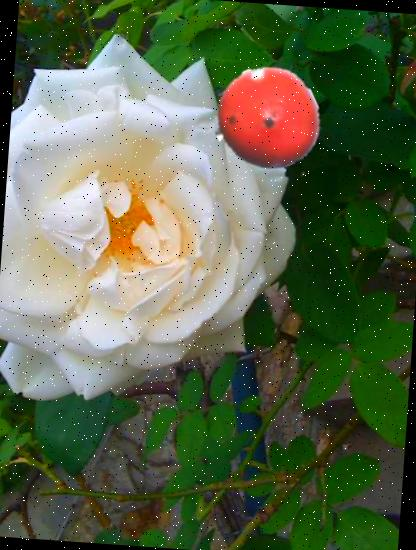Kaki: (209, 62, 322, 175)
